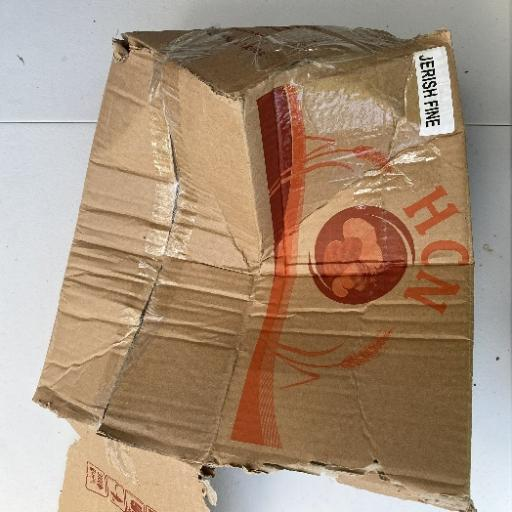Cardboard: (32, 24, 476, 508)
